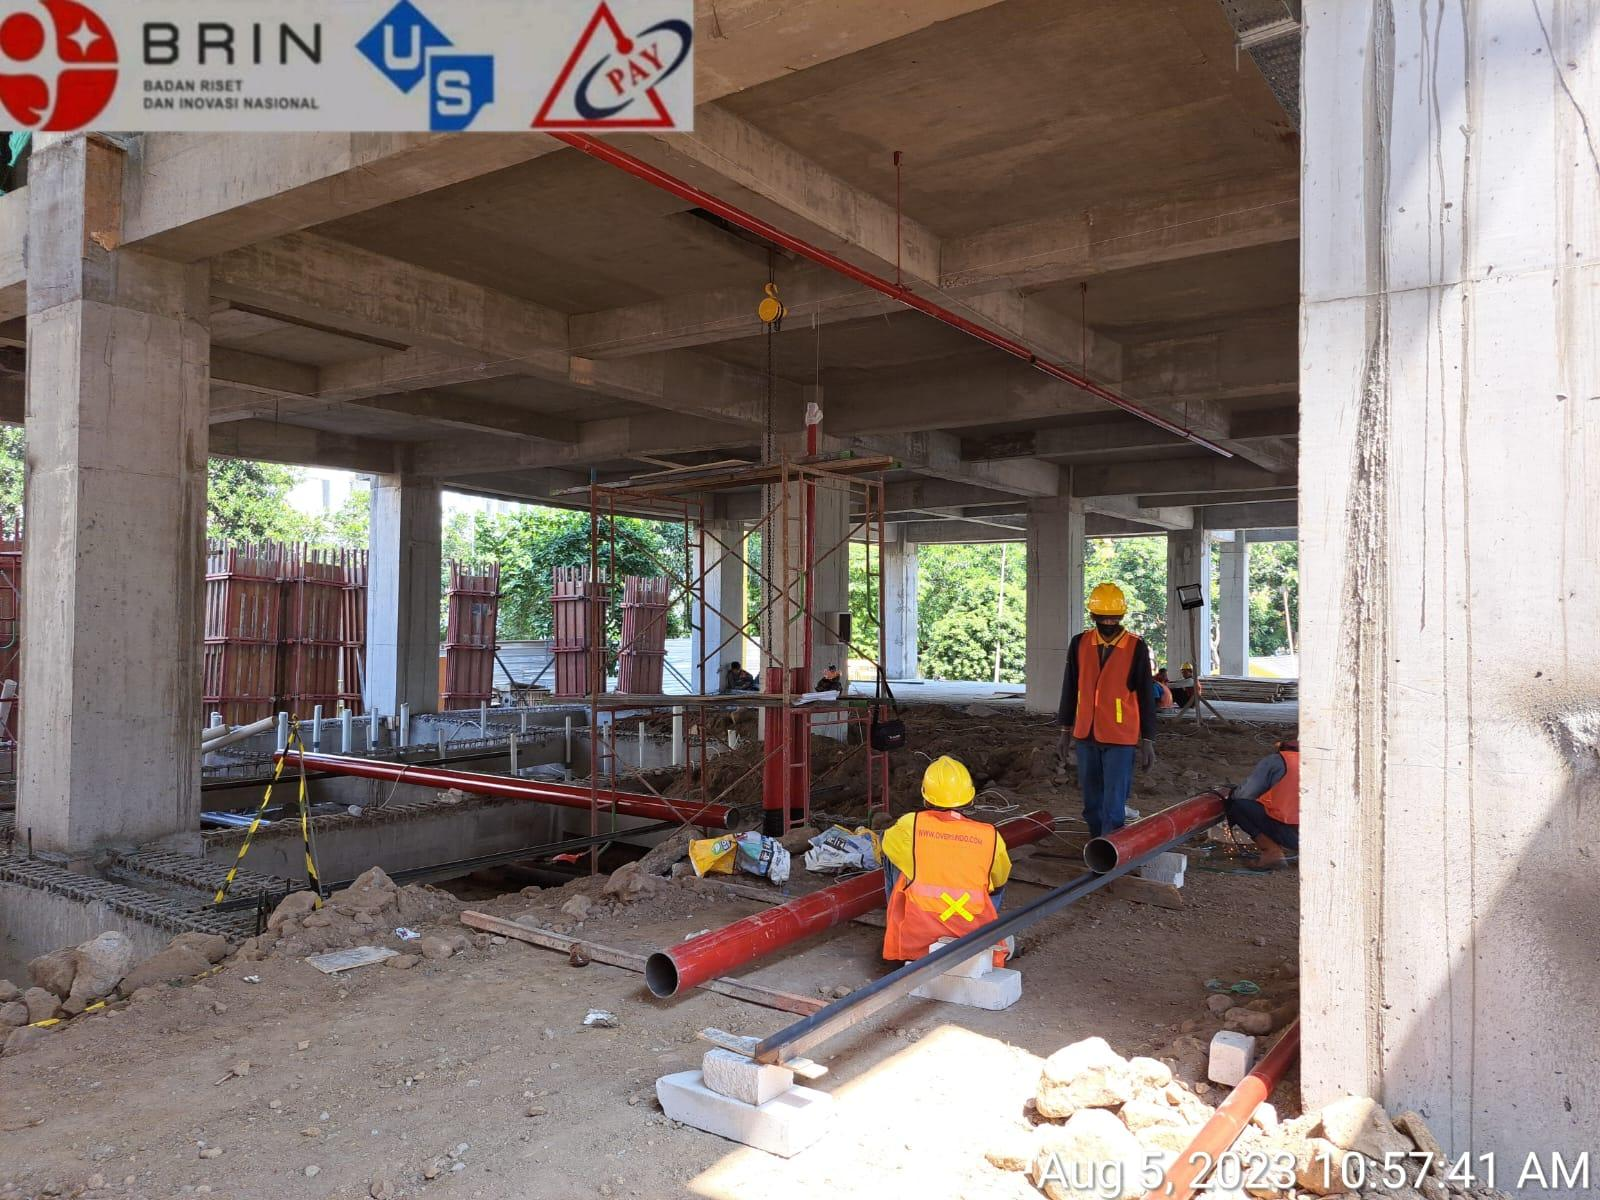hat: (910, 737, 995, 829), (1070, 571, 1169, 643)
vest: (883, 800, 1007, 984), (1049, 621, 1173, 766), (1255, 737, 1306, 847)
